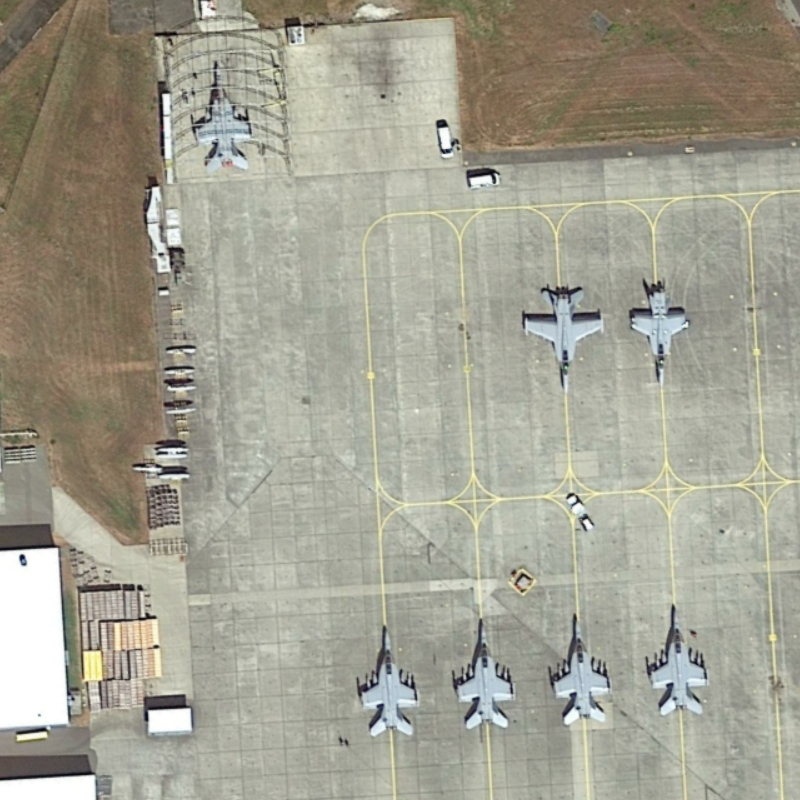A16: (516, 279, 615, 400), (350, 616, 431, 743), (636, 597, 718, 720), (445, 611, 522, 738), (182, 57, 264, 172), (543, 604, 617, 730), (624, 272, 693, 393)
